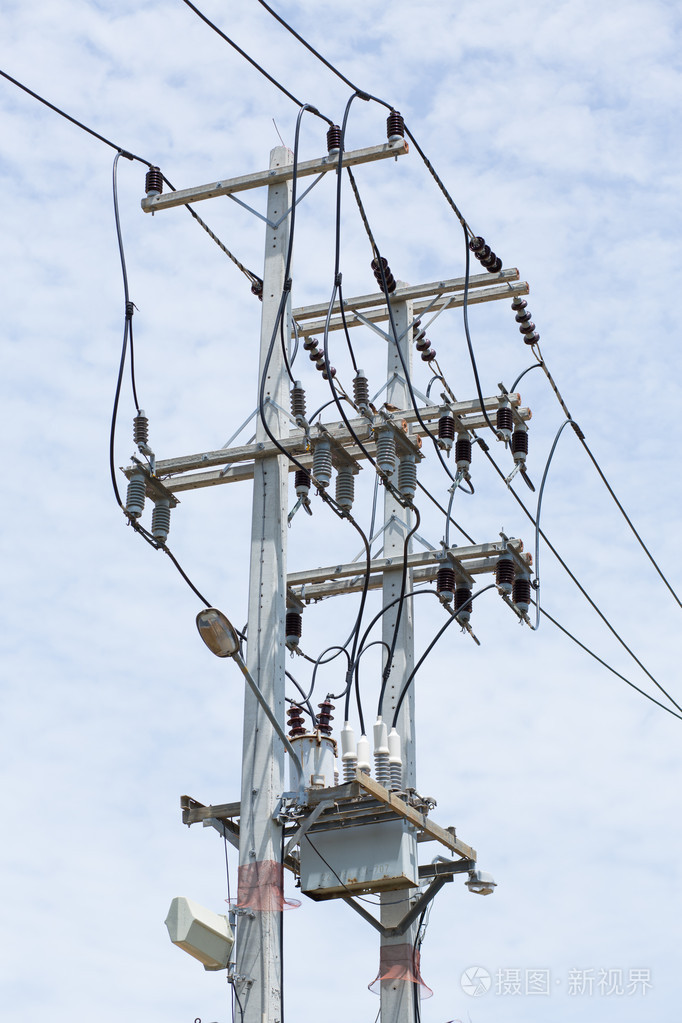insulator: (512, 297, 542, 343), (411, 317, 437, 361), (306, 338, 335, 376), (471, 238, 502, 273), (371, 257, 394, 297)
